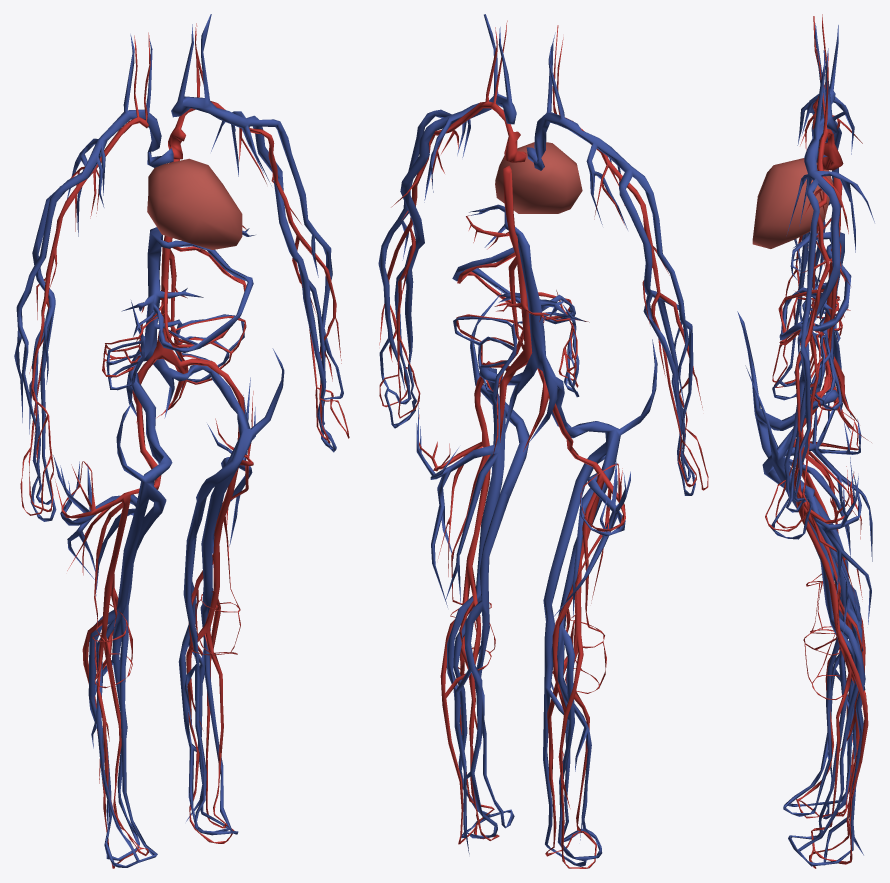
The model's file is pediatric_infant_male.cardiovascular.LOD3.glb.
3 views of the same model, side by side, from view 1: azimuth 30°, elevation 25°; view 2: azimuth 150°, elevation 25°; view 3: azimuth 270°, elevation 25° (orthographic). The views are drawn at different scales.
Parts seen in each view (by area): view 1: PEDIATRIC.INFANT.MALE.CARDIOVASCULAR.BLOOD_IN_LARGE_VEINS, PEDIATRIC.INFANT.MALE.CARDIOVASCULAR.BLOOD_IN_LARGE_ARTERIES, PEDIATRIC.INFANT.MALE.CARDIOVASCULAR.HEART_WALL; view 2: PEDIATRIC.INFANT.MALE.CARDIOVASCULAR.BLOOD_IN_LARGE_VEINS, PEDIATRIC.INFANT.MALE.CARDIOVASCULAR.BLOOD_IN_LARGE_ARTERIES, PEDIATRIC.INFANT.MALE.CARDIOVASCULAR.HEART_WALL; view 3: PEDIATRIC.INFANT.MALE.CARDIOVASCULAR.BLOOD_IN_LARGE_VEINS, PEDIATRIC.INFANT.MALE.CARDIOVASCULAR.BLOOD_IN_LARGE_ARTERIES, PEDIATRIC.INFANT.MALE.CARDIOVASCULAR.HEART_WALL.
Boxes of the visible parts, x1,y1,x2,y2 form: PEDIATRIC.INFANT.MALE.CARDIOVASCULAR.BLOOD_IN_LARGE_VEINS: (14, 14, 343, 867); PEDIATRIC.INFANT.MALE.CARDIOVASCULAR.BLOOD_IN_LARGE_ARTERIES: (20, 23, 349, 868); PEDIATRIC.INFANT.MALE.CARDIOVASCULAR.HEART_WALL: (147, 158, 242, 249); PEDIATRIC.INFANT.MALE.CARDIOVASCULAR.BLOOD_IN_LARGE_VEINS: (378, 14, 695, 866); PEDIATRIC.INFANT.MALE.CARDIOVASCULAR.BLOOD_IN_LARGE_ARTERIES: (379, 20, 708, 868); PEDIATRIC.INFANT.MALE.CARDIOVASCULAR.HEART_WALL: (495, 142, 582, 213); PEDIATRIC.INFANT.MALE.CARDIOVASCULAR.BLOOD_IN_LARGE_VEINS: (737, 23, 874, 866); PEDIATRIC.INFANT.MALE.CARDIOVASCULAR.BLOOD_IN_LARGE_ARTERIES: (765, 14, 871, 868); PEDIATRIC.INFANT.MALE.CARDIOVASCULAR.HEART_WALL: (752, 158, 833, 248).
Bounding box in the file's own units: 0.2558 × 0.6323 × 0.0972.
